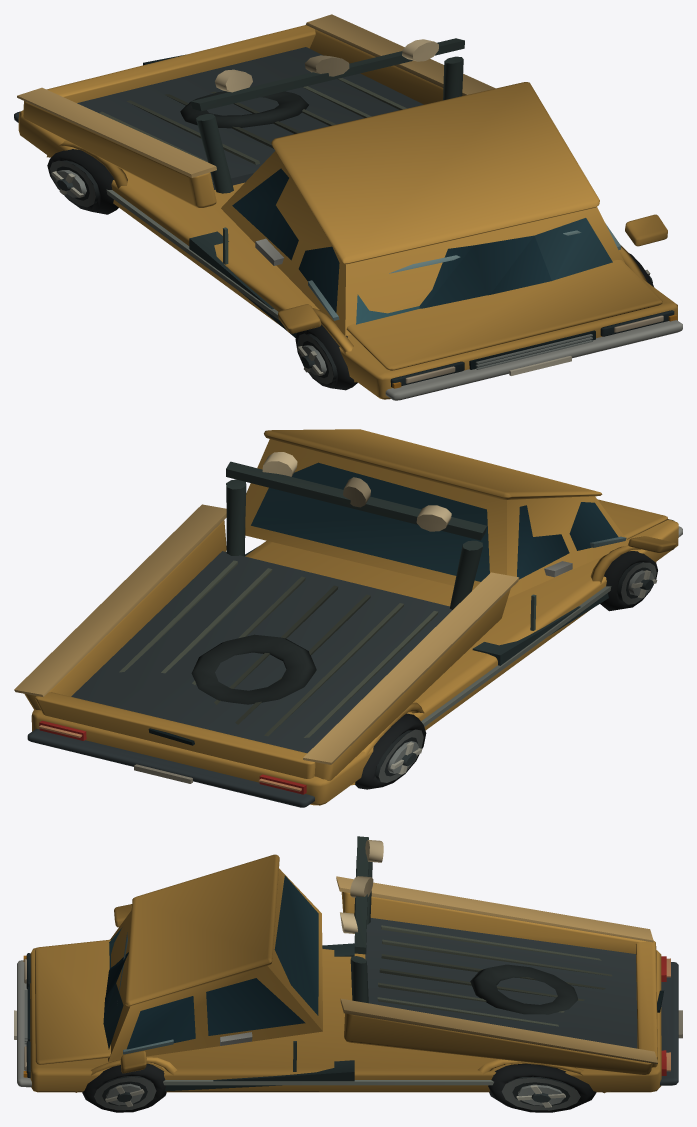
The model's file is pickup.glb.
3 renders of one model, top to bottom at view 1: azimuth 30°, elevation 25°; view 2: azimuth 150°, elevation 25°; view 3: azimuth 270°, elevation 25°, orthographic. The views are drawn at different scales.
Visible parts, largest first — view 1: pickup_body; view 2: pickup_body; view 3: pickup_body.
Boxes of the visible parts, bbox=[...] form: pickup_body: bbox=[14, 14, 682, 400]; pickup_body: bbox=[14, 429, 682, 807]; pickup_body: bbox=[14, 836, 682, 1112].
Bounding box in the file's own units: 2.48 × 1.19 × 4.32.
